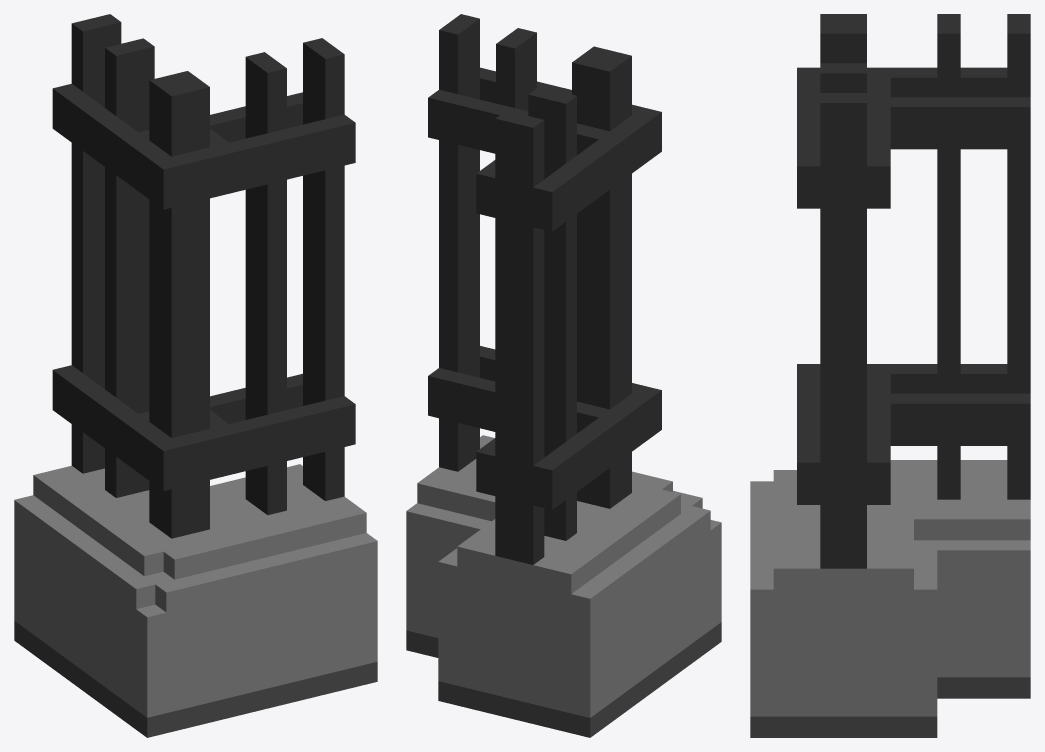
Rendered from Park_Fence_Corner.glb.
3 views of the same model, side by side, from view 1: azimuth 30°, elevation 25°; view 2: azimuth 150°, elevation 25°; view 3: azimuth 270°, elevation 25° (orthographic). The views are drawn at different scales.
Parts seen in each view (by area): view 1: Park_Fence_Corner; view 2: Park_Fence_Corner; view 3: Park_Fence_Corner.
Boxes of the visible parts, x1,y1,x2,y2 form: Park_Fence_Corner: [14, 14, 377, 737]; Park_Fence_Corner: [406, 14, 721, 737]; Park_Fence_Corner: [750, 14, 1030, 737].
Bounding box in the file's own units: 1.2 × 3 × 1.2.
1 material, 1 textured.
